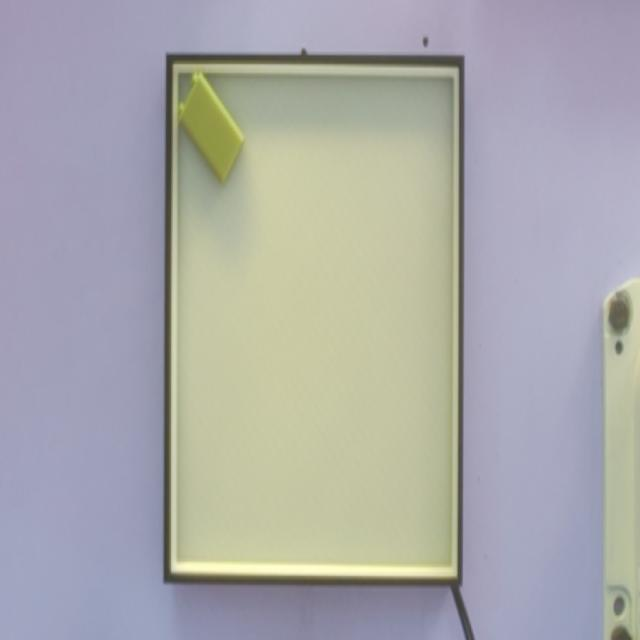bateria: (177, 71, 245, 186)
mesa: (164, 53, 464, 586)
